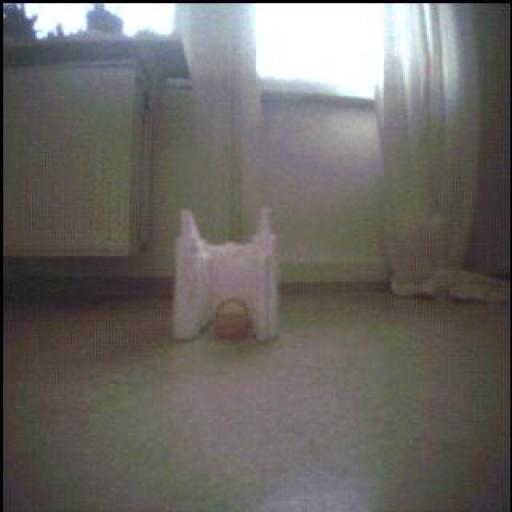Basket: (214, 299, 252, 340)
